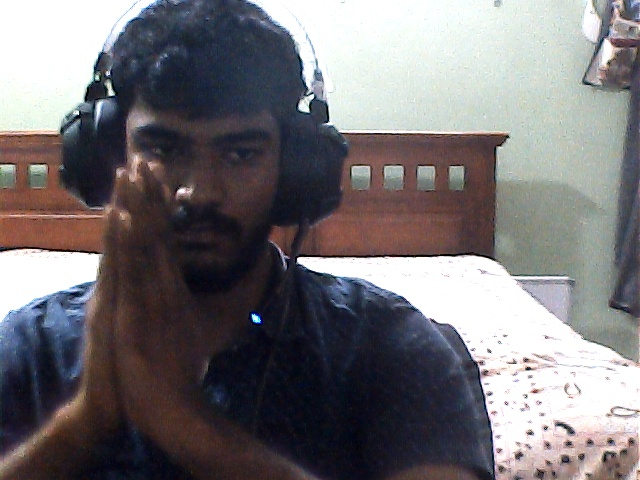Sign: (69, 159, 215, 455)
